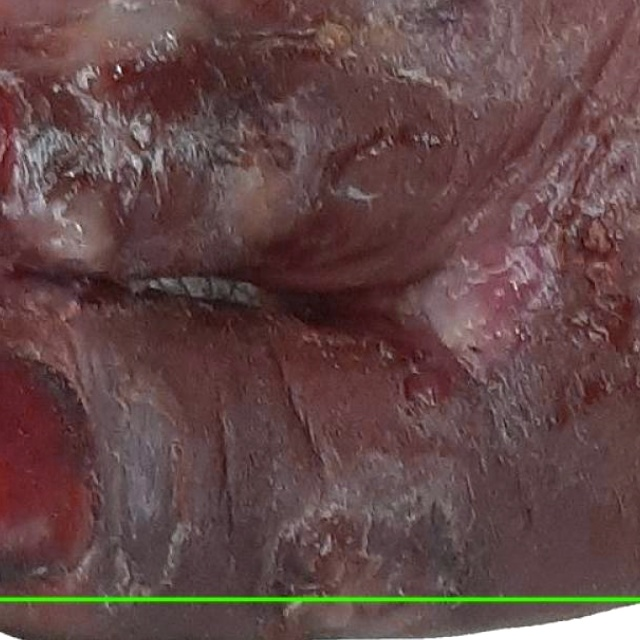Eczema: (0, 599, 639, 639)
